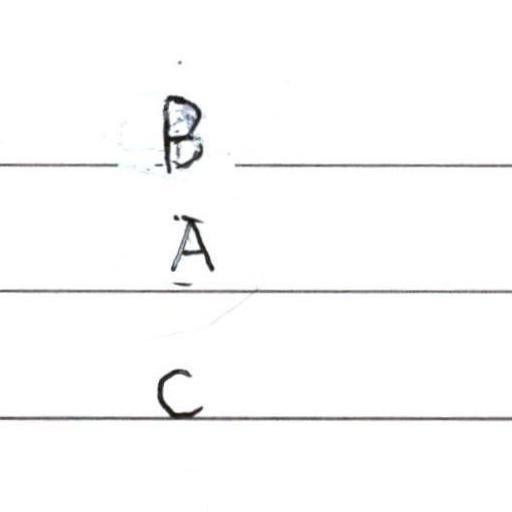ans: (153, 85, 205, 174), (154, 367, 205, 420), (170, 214, 214, 274)
